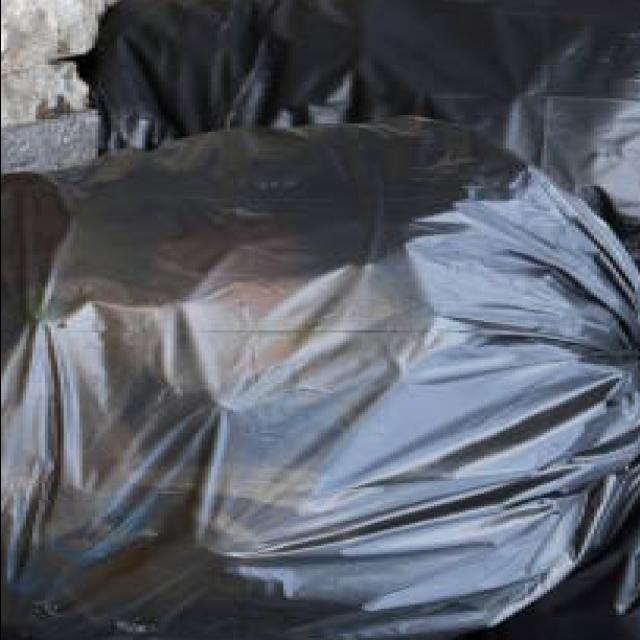Trashbag: (7, 104, 640, 638)
